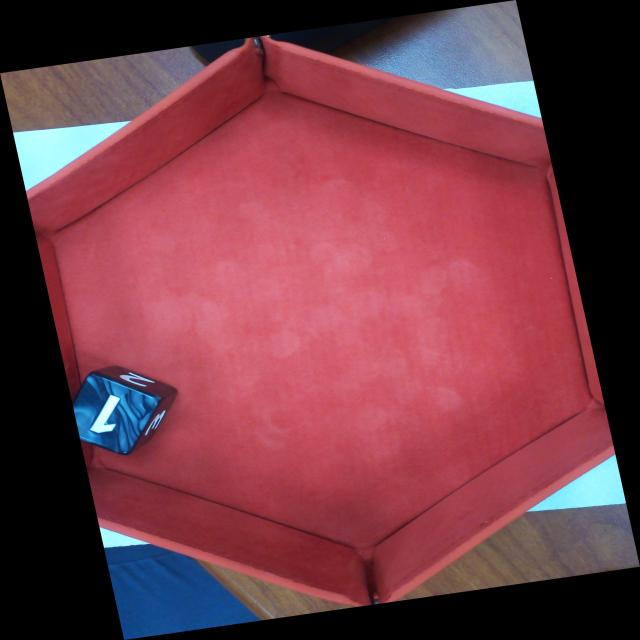dice: (60, 372, 163, 457)
